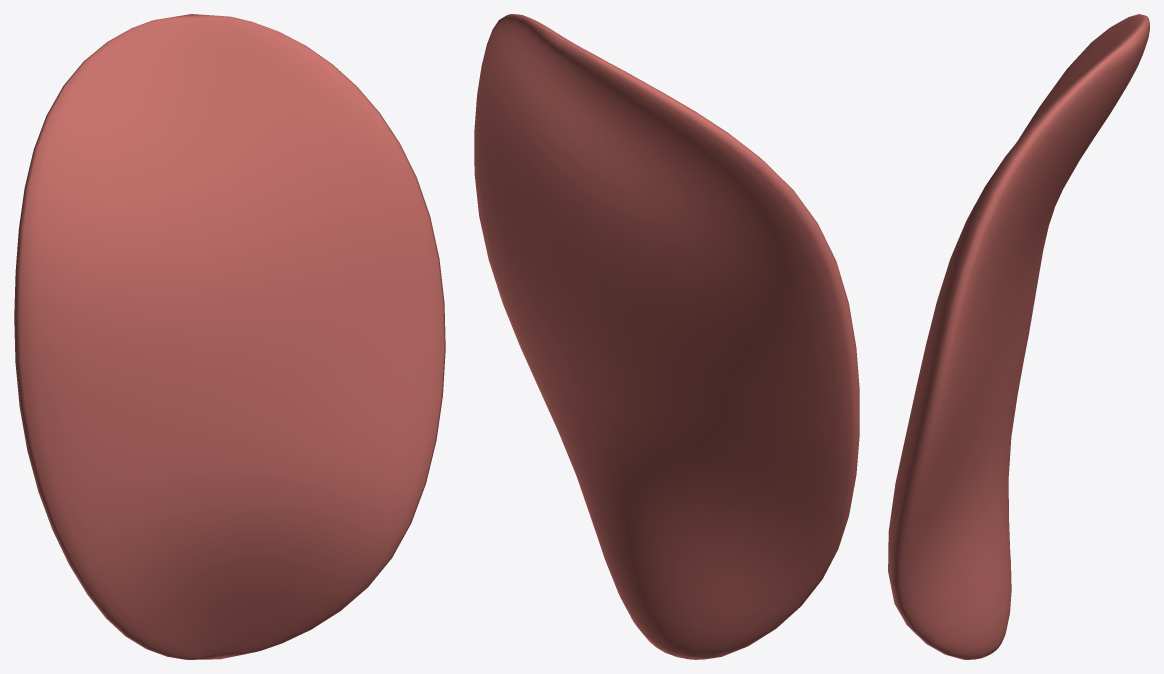
The picture shows the model from 3 angles, left to right: view 1: azimuth 30°, elevation 25°; view 2: azimuth 150°, elevation 25°; view 3: azimuth 270°, elevation 25°; orthographic projection. The views are drawn at different scales.
Visible parts, largest first — view 1: 右侧肩峰皮下囊; view 2: 右侧肩峰皮下囊; view 3: 右侧肩峰皮下囊.
Part boxes in pixels (bbox=[...]): 右侧肩峰皮下囊: bbox=[14, 14, 445, 659]; 右侧肩峰皮下囊: bbox=[474, 14, 859, 659]; 右侧肩峰皮下囊: bbox=[888, 14, 1149, 659].
Bounding box in the file's own units: 0.0445 × 0.0655 × 0.0247.
